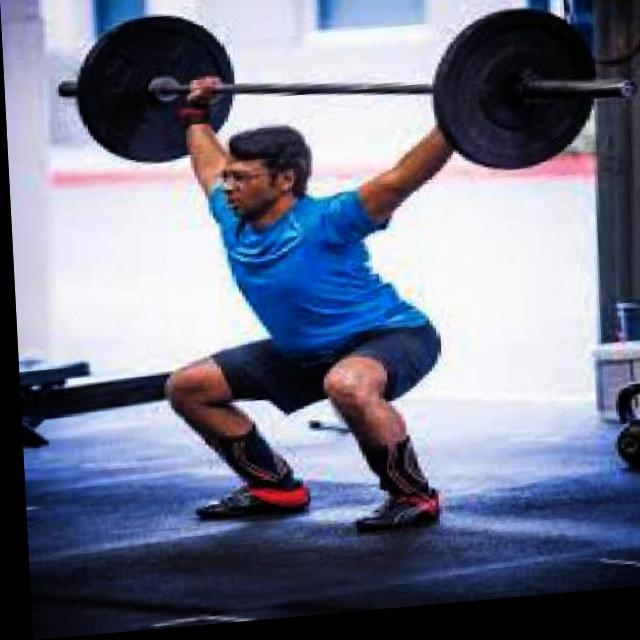barbell: (428, 9, 640, 189)
